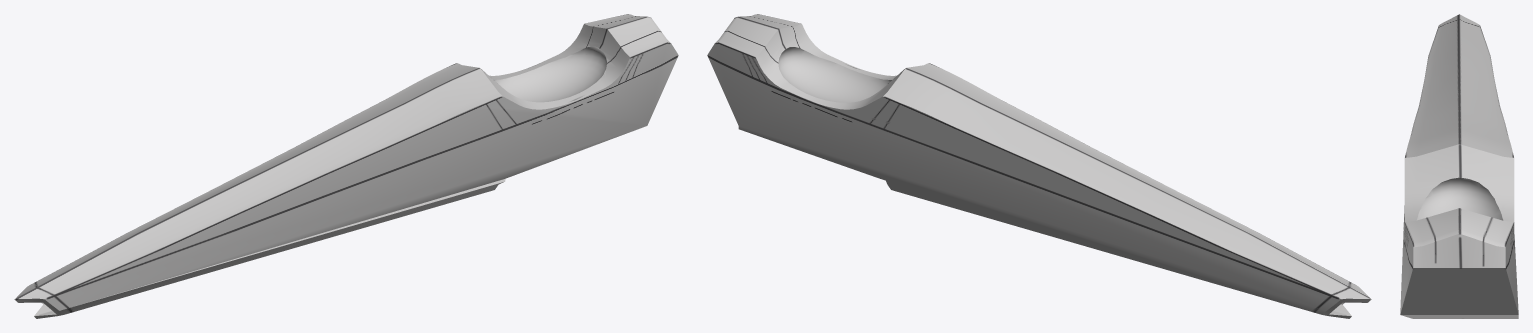
3 renders of one model, left to right at view 1: azimuth 30°, elevation 25°; view 2: azimuth 150°, elevation 25°; view 3: azimuth 270°, elevation 25°, orthographic. The views are drawn at different scales.
Visible parts, largest first — view 1: 球体.012; view 2: 球体.012; view 3: 球体.012.
Boxes of the visible parts, x1,y1,x2,y2 form: 球体.012: (14, 14, 678, 318); 球体.012: (707, 14, 1371, 318); 球体.012: (1400, 14, 1518, 318).
Bounding box in the file's own units: 478 × 109 × 64.04.
